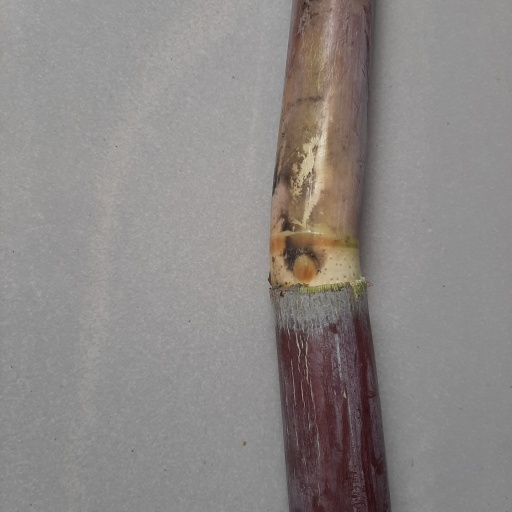Bud: (291, 251, 320, 285)
